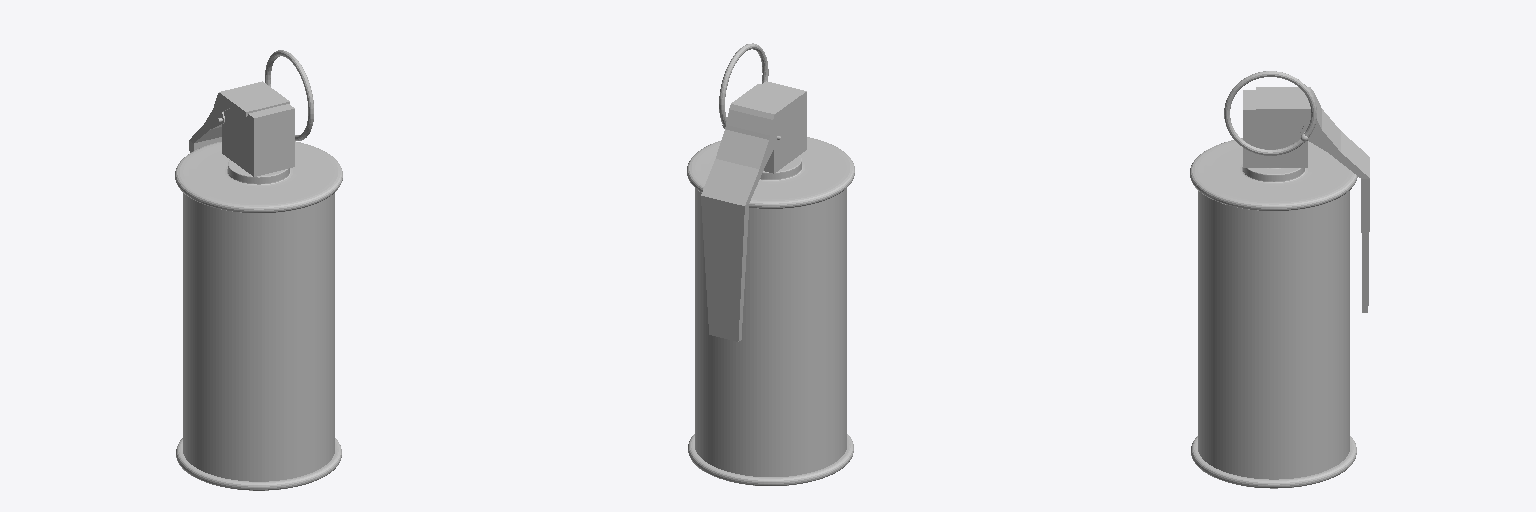
The model's file is Incendiary Grenade.obj.
The picture shows the model from 3 angles: view 1: azimuth 30°, elevation 25°; view 2: azimuth 150°, elevation 25°; view 3: azimuth 270°, elevation 25°; orthographic projection.
Parts seen in each view (by area): view 1: Incendiary_Grenade, Incendiary_Grenade_Spoon, Incendiary_Grenade_Pin; view 2: Incendiary_Grenade, Incendiary_Grenade_Spoon, Incendiary_Grenade_Pin; view 3: Incendiary_Grenade, Incendiary_Grenade_Spoon, Incendiary_Grenade_Pin.
Boxes of the visible parts, x1,y1,x2,y2 form: Incendiary_Grenade: [175, 104, 342, 490]; Incendiary_Grenade_Spoon: [189, 81, 289, 152]; Incendiary_Grenade_Pin: [217, 50, 313, 140]; Incendiary_Grenade: [687, 81, 854, 485]; Incendiary_Grenade_Spoon: [701, 84, 801, 341]; Incendiary_Grenade_Pin: [719, 43, 781, 140]; Incendiary_Grenade: [1190, 90, 1357, 488]; Incendiary_Grenade_Spoon: [1256, 87, 1369, 312]; Incendiary_Grenade_Pin: [1224, 71, 1316, 155].
Size of the model in its own units: 1.5 by 3.92 by 1.61.